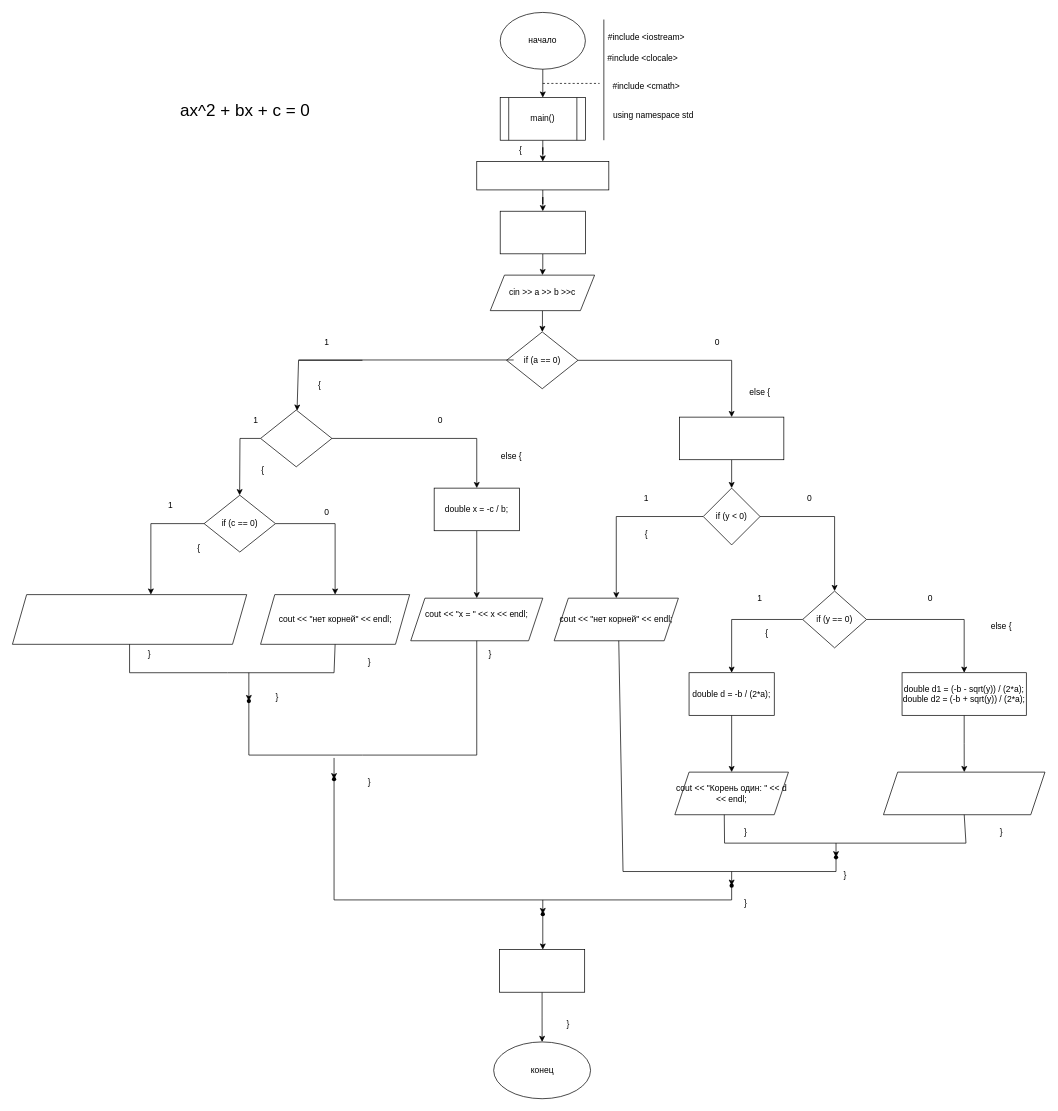
This 1058x1111 diagram has some shape labels left out. The box of each missing label's shape, as (x1, y1, x2, y2) in pixels:
cout << "бесконечное множество решений" << endl;: (12, 594, 247, 644)
cout << "Корней два: " << d1 << " " << d2 << endl;: (883, 771, 1045, 815)
double a, b, c;: (499, 211, 585, 254)
double y = b*b - 4*a*c;: (679, 416, 784, 460)
if (b == 0): (260, 409, 332, 467)
return 0;: (499, 949, 585, 992)
setlocale(LC_ALL, "Russian");: (476, 161, 609, 190)
